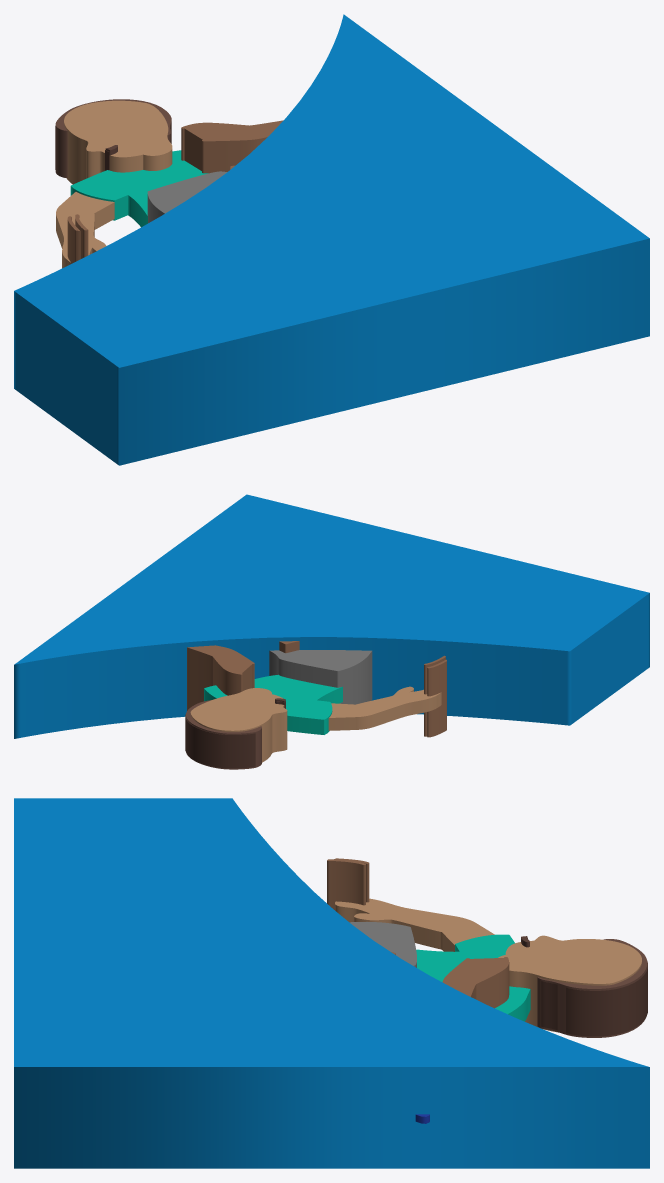
File: emoji_u1f3c4_1f3fd_200d_2642.glb
The picture shows the model from 3 angles, top to bottom: view 1: azimuth 30°, elevation 25°; view 2: azimuth 150°, elevation 25°; view 3: azimuth 270°, elevation 25°; orthographic projection. The views are drawn at different scales.
Parts seen in each view (by area): view 1: emoji_u1f3c4_1f3fd_200d_2642; view 2: emoji_u1f3c4_1f3fd_200d_2642; view 3: emoji_u1f3c4_1f3fd_200d_2642.
Part boxes in pixels (x1,y1,x2,y2): emoji_u1f3c4_1f3fd_200d_2642: (14, 14, 649, 465); emoji_u1f3c4_1f3fd_200d_2642: (14, 494, 649, 769); emoji_u1f3c4_1f3fd_200d_2642: (14, 798, 649, 1168).
Size of the model in its own units: 0.0332 by 0.0058 by 0.0329.
